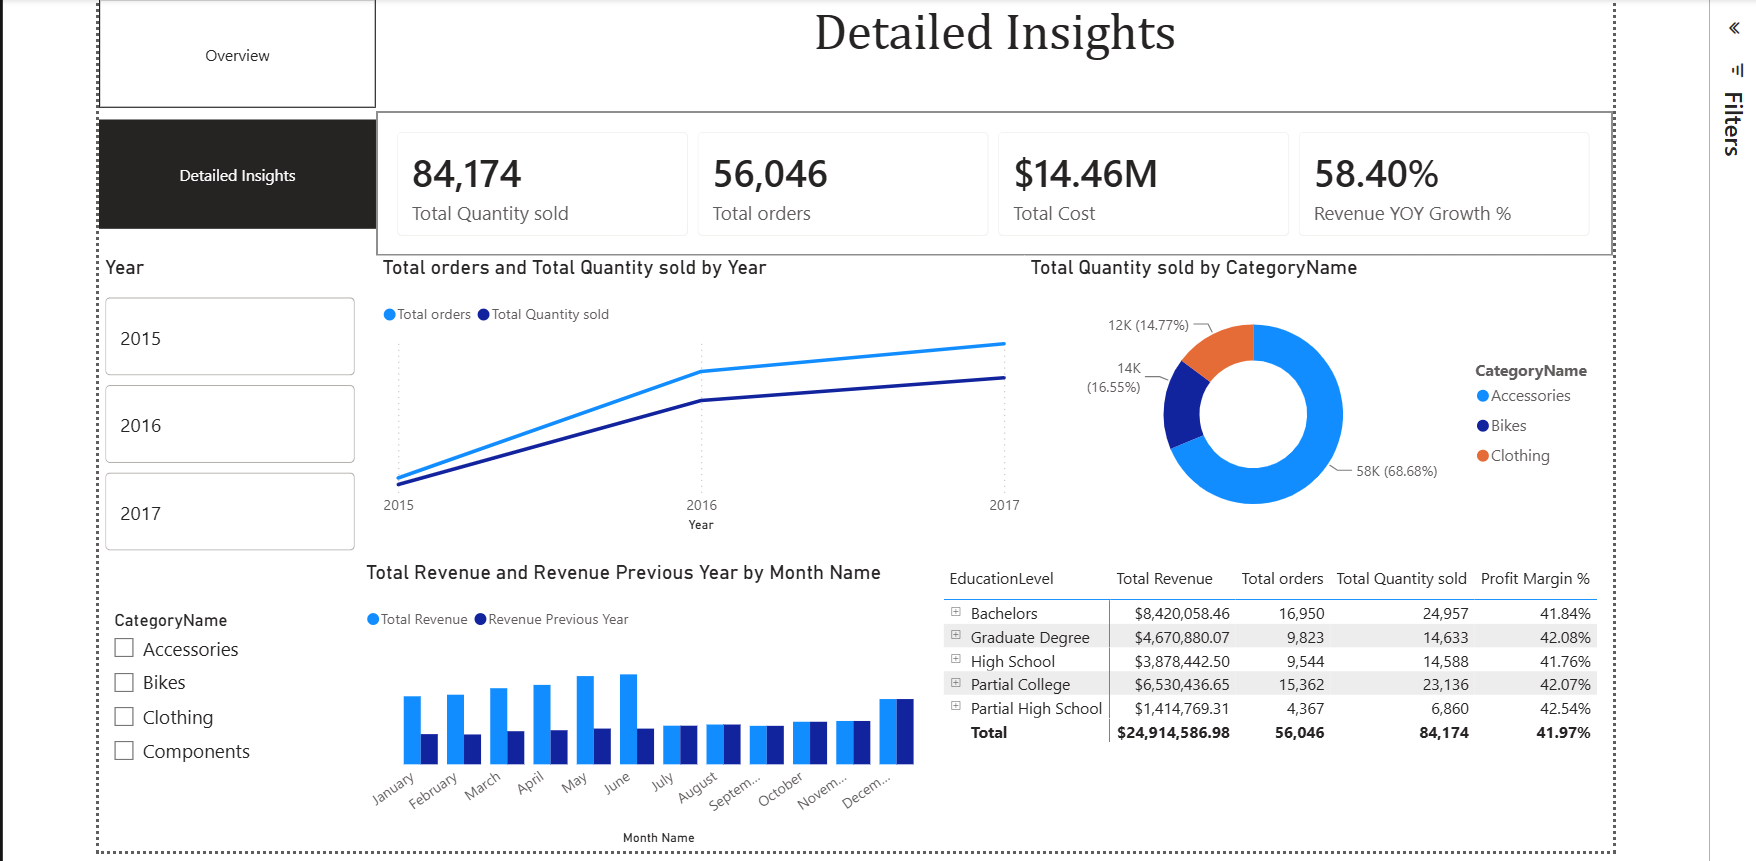

Layout of this report page (visuals, bound fields, positions):
{"tool":"powerbi","page":{"name":"Detailed Insights","canvas":[1280,720],"ordinal":1},"visuals":[{"type":"textbox","box":[234.3,0,1045,94.5],"z":0},{"type":"cardVisual","fields":{"Data":["_Measures.Total Quantity sold","_Measures.Total orders","_Measures.Total Cost","_Measures.Revenue YOY Growth %"]},"box":[234.3,94.5,1045,122.8],"z":1000},{"type":"lineChart","fields":{"Y":["_Measures.Total orders"],"Category":["Dim_Date.Year"],"Y2":["_Measures.Total Quantity sold"]},"box":[234.3,217.3,548,238.1],"z":2000},{"type":"donutChart","fields":{"Category":["Products.CategoryName"],"Y":["_Measures.Total Quantity sold"]},"box":[782.4,217.3,497,238.1],"z":3000},{"type":"clusteredColumnChart","fields":{"Category":["Dim_Date.Month Name"],"Y":["_Measures.Total Revenue","_Measures.Revenue Previous Year"]},"box":[221.1,474.3,487.6,245.7],"z":4000},{"type":"pivotTable","fields":{"Rows":["Customers.EducationLevel","Customers.Occupation"],"Values":["_Measures.Total Revenue","_Measures.Total orders","_Measures.Total Quantity sold","_Measures.Profit Margin %"]},"box":[708.7,474.3,570.7,245.7],"z":5000},{"type":"advancedSlicerVisual","fields":{"Values":["Dim_Date.Year"]},"box":[0,217.3,221.1,255.1],"z":6000},{"type":"slicer","fields":{"Values":["Products.CategoryName"]},"box":[0,510.2,221.1,209.8],"z":7000},{"type":"pageNavigator","box":[0,0,234.5,195.2],"z":7001}]}

Visuals, with their boxes on the page's 1280x720 design canvas (x1, y1, x2, y2). These are canvas units, not pixel positions in the 1756x861 screenshot, which may show the page scaled, cropped or inside an application window:
textbox: (x1=234, y1=0, x2=1279, y2=94)
cardVisual - _Measures.Total Quantity sold x _Measures.Total orders: (x1=234, y1=94, x2=1279, y2=217)
lineChart - _Measures.Total orders x Dim_Date.Year: (x1=234, y1=217, x2=782, y2=455)
donutChart - Products.CategoryName x _Measures.Total Quantity sold: (x1=782, y1=217, x2=1279, y2=455)
clusteredColumnChart - Dim_Date.Month Name x _Measures.Total Revenue: (x1=221, y1=474, x2=709, y2=720)
pivotTable - Customers.EducationLevel x Customers.Occupation: (x1=709, y1=474, x2=1279, y2=720)
advancedSlicerVisual - Dim_Date.Year: (x1=0, y1=217, x2=221, y2=472)
slicer - Products.CategoryName: (x1=0, y1=510, x2=221, y2=720)
pageNavigator: (x1=0, y1=0, x2=234, y2=195)
